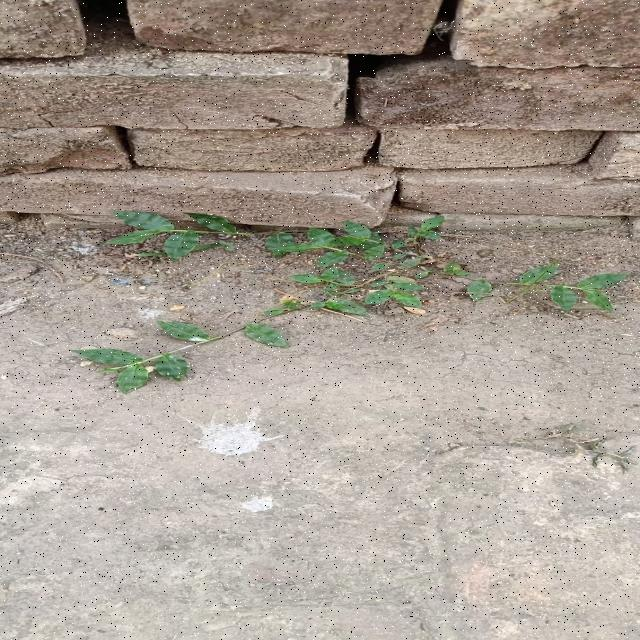plant: (264, 216, 468, 316), (107, 211, 250, 260), (508, 264, 626, 312), (73, 349, 188, 392), (157, 321, 222, 343), (244, 321, 289, 348), (460, 279, 494, 301)
